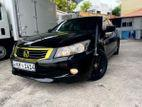car: (12, 15, 121, 84)
